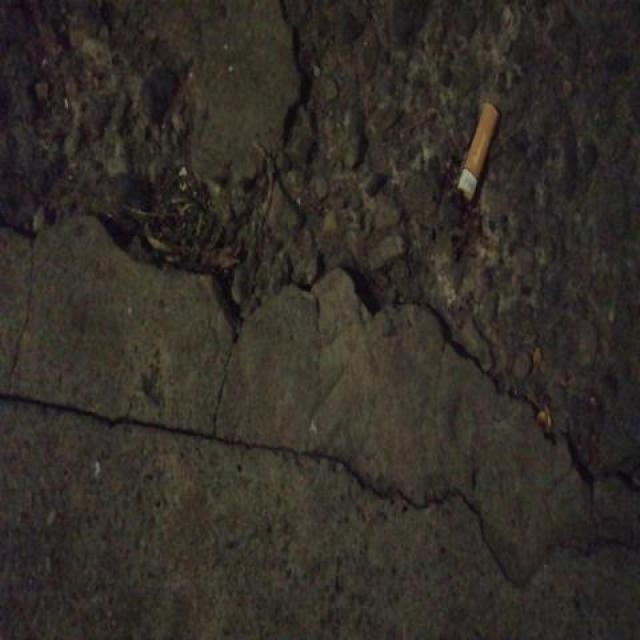non-organic waste: (454, 98, 502, 206)
